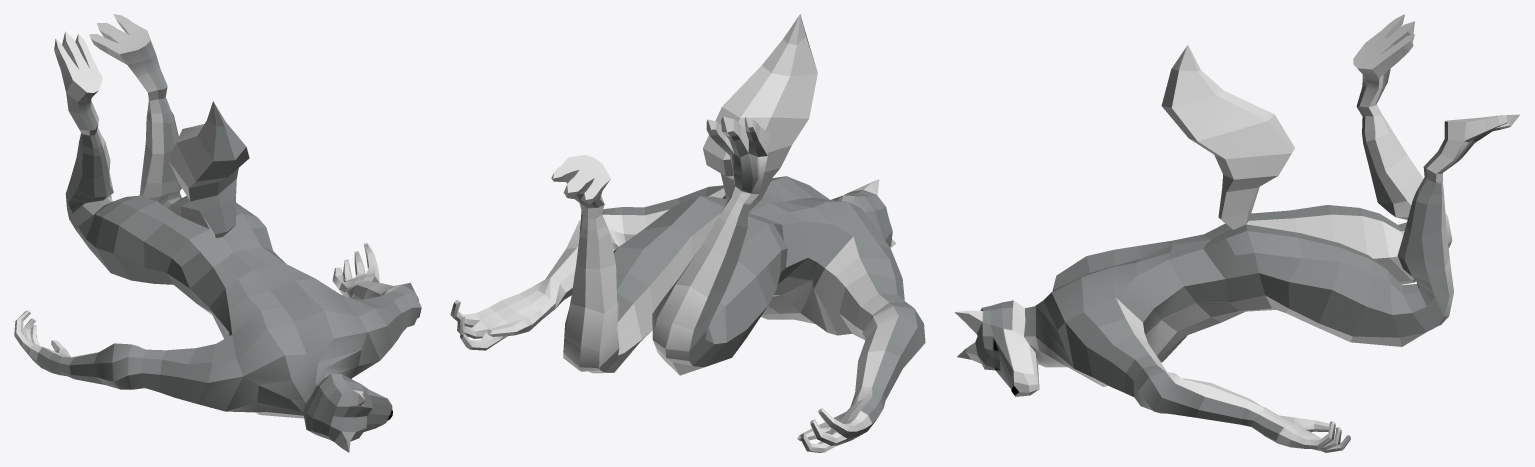
File: WolfDead(74).obj
3 views of the same model, side by side, from view 1: azimuth 30°, elevation 25°; view 2: azimuth 150°, elevation 25°; view 3: azimuth 270°, elevation 25° (orthographic). The views are drawn at different scales.
Parts seen in each view (by area): view 1: Box001; view 2: Box001; view 3: Box001.
Boxes of the visible parts, x1=… form: Box001: x1=14, y1=14, x2=421, y2=452; Box001: x1=450, y1=14, x2=925, y2=452; Box001: x1=954, y1=14, x2=1519, y2=452.
Bounding box in the file's own units: 103 × 82.93 × 137.
